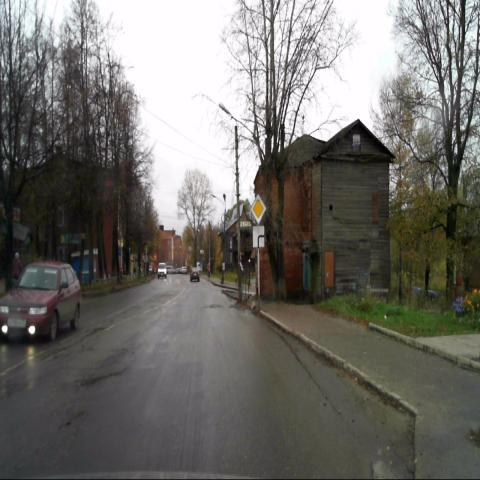8_13: (252, 226, 266, 249)
